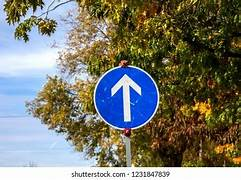forward: (95, 65, 158, 130)
